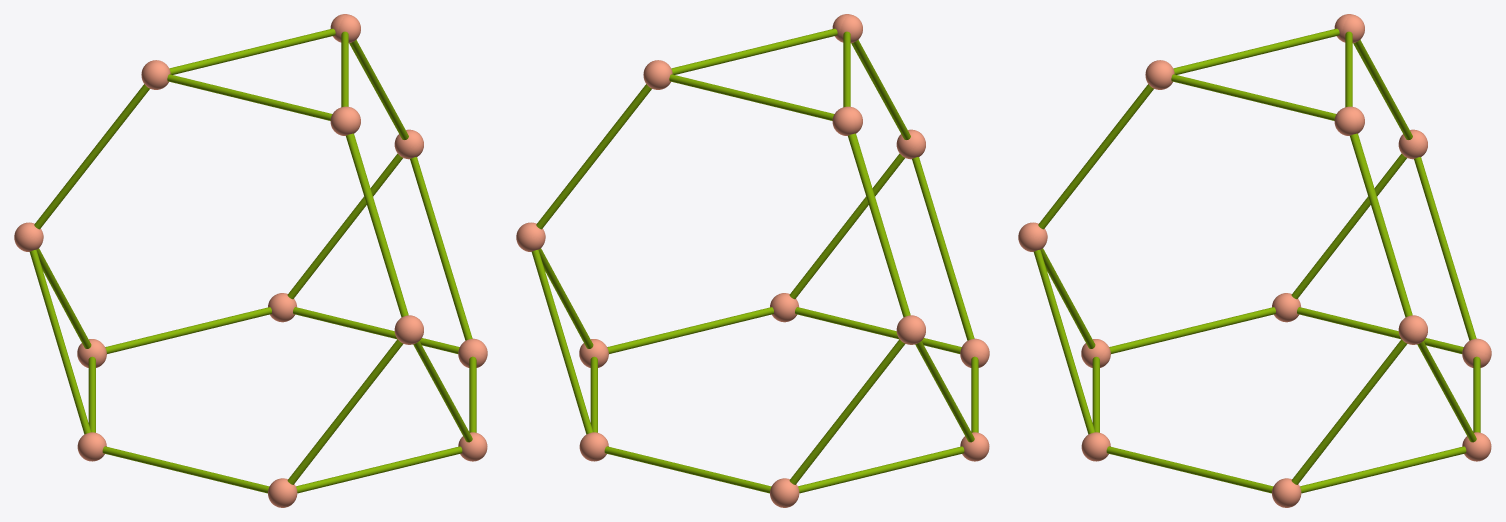
The model's file is truncated_tetrahedron.glb.
3 renders of one model, left to right at view 1: azimuth 30°, elevation 25°; view 2: azimuth 150°, elevation 25°; view 3: azimuth 270°, elevation 25°, orthographic.
Bounding box in the file's own units: 6.4 × 5.3 × 6.46.
